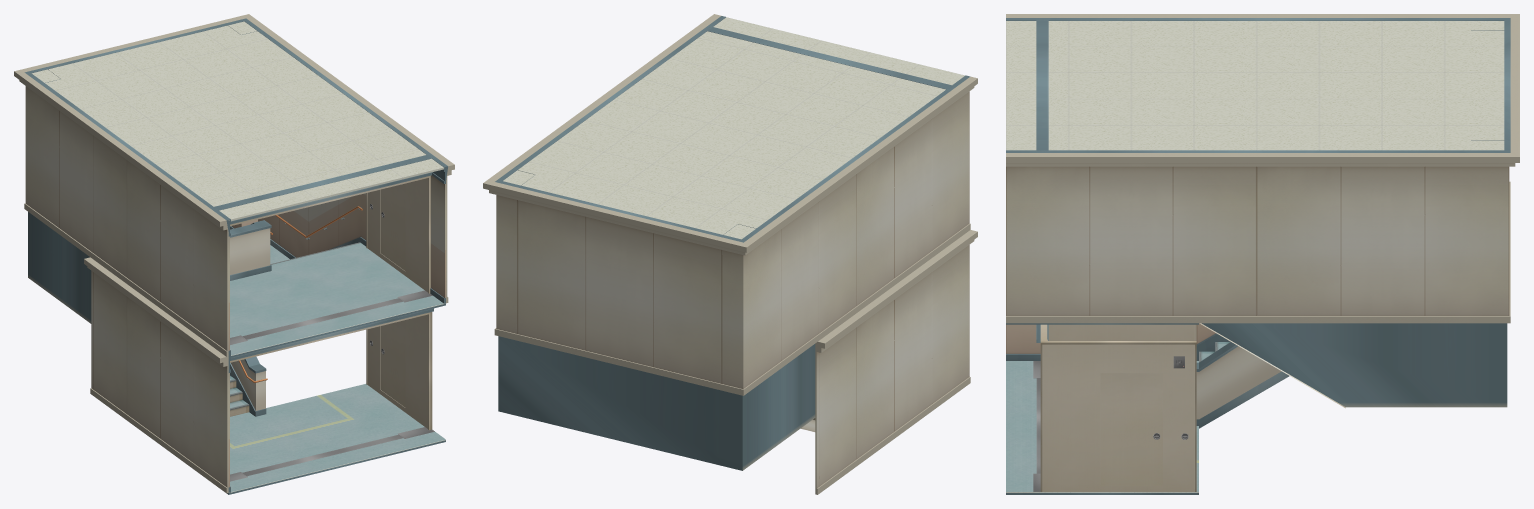
Rendered from SHW_Stairs_01_03.fbx.
3 renders of one model, left to right at view 1: azimuth 30°, elevation 25°; view 2: azimuth 150°, elevation 25°; view 3: azimuth 270°, elevation 25°, orthographic. The views are drawn at different scales.
Parts seen in each view (by area): view 1: wall_01, ceiling_01, floor_01, door_R (×2), fire_door_01 (×2), door2_R (×2); view 2: wall_01, ceiling_01; view 3: wall_01, ceiling_01, door_R, door2_R, door_L, fire_door_01.
Boxes of the visible parts, x1,y1,x2,y2 form: wall_01: (14,14,454,494); ceiling_01: (32,21,445,492); floor_01: (230,247,443,355); door_R (×2): (367,178,428,428); fire_door_01 (×2): (230,175,434,481); door2_R (×2): (380,183,405,407); wall_01: (483,14,977,494); ceiling_01: (503,17,964,239); wall_01: (1006,14,1519,494); ceiling_01: (1006,21,1504,492); door_R: (1042,344,1194,491); door2_R: (1100,373,1162,486); door_L: (1048,324,1194,340); fire_door_01: (1033,324,1196,491).
Bounding box in the file's own units: 540 × 604 × 820.
